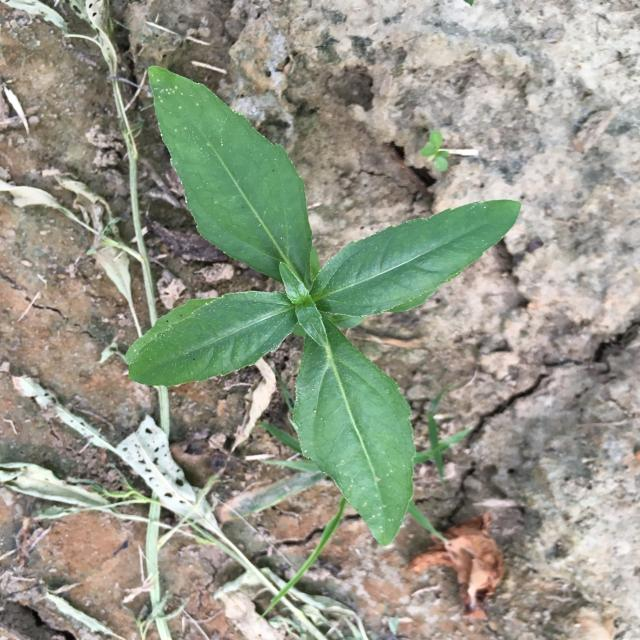Eclipta: (124, 66, 522, 546)
